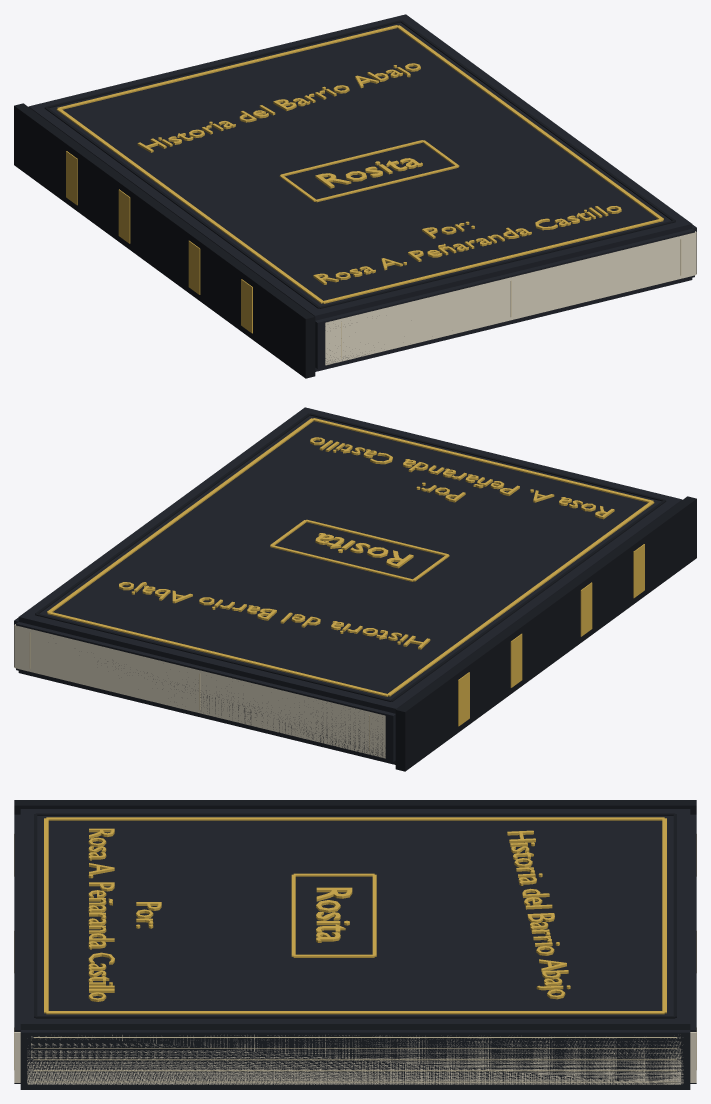
The model's file is libro-historia-barrio-abajo.glb.
3 renders of one model, top to bottom at view 1: azimuth 30°, elevation 25°; view 2: azimuth 150°, elevation 25°; view 3: azimuth 270°, elevation 25°, orthographic. The views are drawn at different scales.
Parts seen in each view (by area): view 1: Libro_CueroTapa, Libro_CueroLomo, Libro_CantoHojas, Libro_OroRelieve; view 2: Libro_CueroTapa, Libro_CueroLomo, Libro_CantoHojas, Libro_OroRelieve; view 3: Libro_CueroTapa, Libro_CantoHojas, Libro_OroRelieve, Libro_CueroLomo, Libro_LineaHojas.
Part boxes in pixels (x1,y1,x2,y2): Libro_CueroTapa: (28,14,696,371); Libro_CueroLomo: (14,20,675,378); Libro_CantoHojas: (325,231,696,365); Libro_OroRelieve: (56,25,663,333); Libro_CueroTapa: (14,407,682,764); Libro_CueroLomo: (35,413,696,771); Libro_CantoHojas: (14,624,385,758); Libro_OroRelieve: (47,418,654,726); Libro_CueroTapa: (14,809,696,1089); Libro_CantoHojas: (14,1032,696,1084); Libro_OroRelieve: (44,817,666,1014); Libro_CueroLomo: (14,800,696,1018); Libro_LineaHojas: (14,834,696,1082).
Size of the model in its own units: 0.2502 by 0.0362 by 0.3204.
